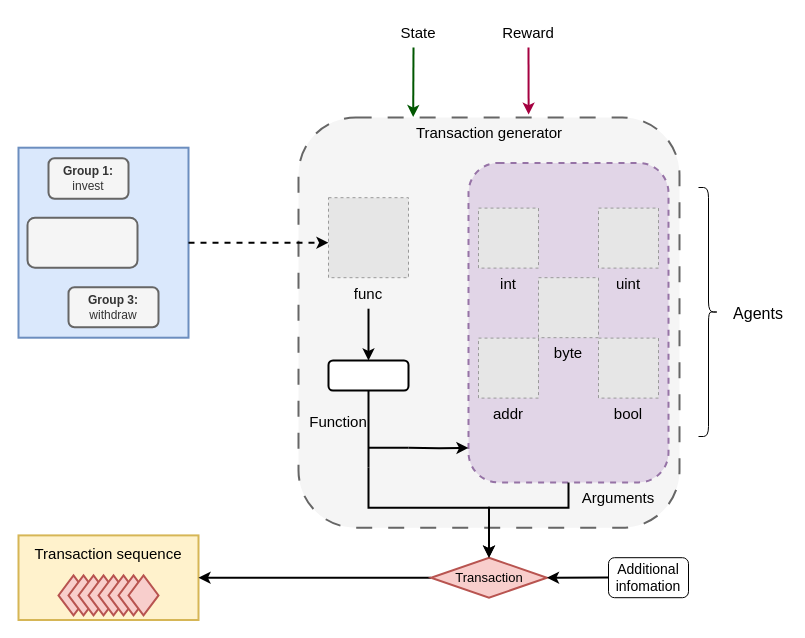
Some shapes in this 805 by 638 pixel diagram are drawn without their labels. Grey dashed boxes stand in for pictures. Each missing label, with the box of its shape:
Group 2: SetOwner Setstatus: (26, 216, 138, 268)
Random: (327, 359, 409, 391)
